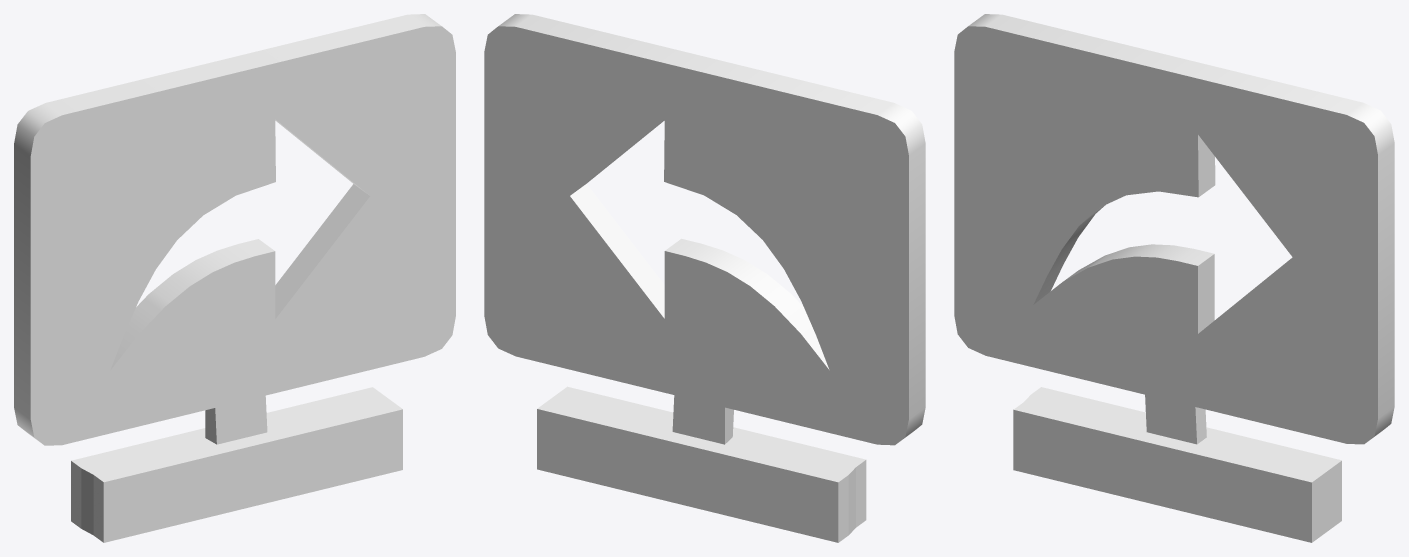
File: Screenshare.FBX
3 views of the same model, side by side, from view 1: azimuth 30°, elevation 25°; view 2: azimuth 150°, elevation 25°; view 3: azimuth 330°, elevation 25° (orthographic).
Visible parts, largest first — view 1: Box005; view 2: Box005; view 3: Box005.
Boxes of the visible parts, box(x1,y1,x2,y2) form: Box005: box(14, 14, 455, 542); Box005: box(484, 14, 925, 542); Box005: box(954, 14, 1394, 542).
Size of the model in its own units: 22.02 by 21.35 by 2.72.
1 material, 1 textured.
